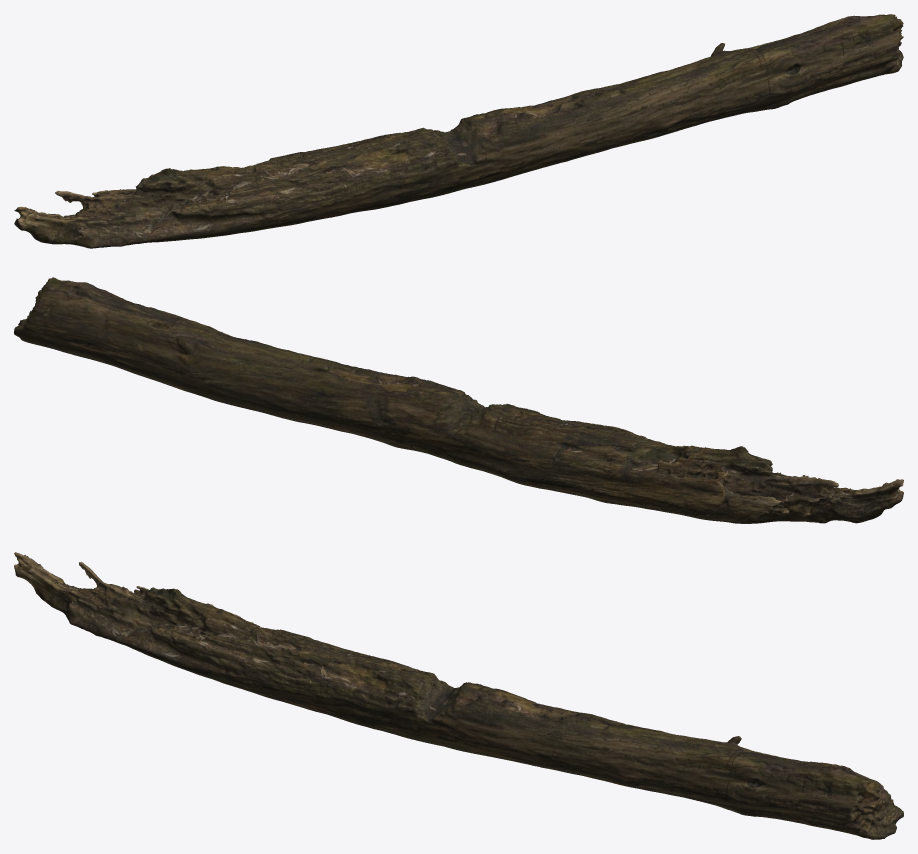
Rendered from Log_a.glb.
The picture shows the model from 3 angles, top to bottom: view 1: azimuth 30°, elevation 25°; view 2: azimuth 150°, elevation 25°; view 3: azimuth 330°, elevation 25°; orthographic projection.
Visible parts, largest first — view 1: dead_tree_trunk; view 2: dead_tree_trunk; view 3: dead_tree_trunk.
Boxes of the visible parts, bbox=[...] form: dead_tree_trunk: bbox=[14, 14, 903, 248]; dead_tree_trunk: bbox=[14, 277, 903, 523]; dead_tree_trunk: bbox=[14, 552, 903, 839].
Bounding box in the file's own units: 3.05 × 0.2904 × 0.2775.
1 material, 1 textured.
